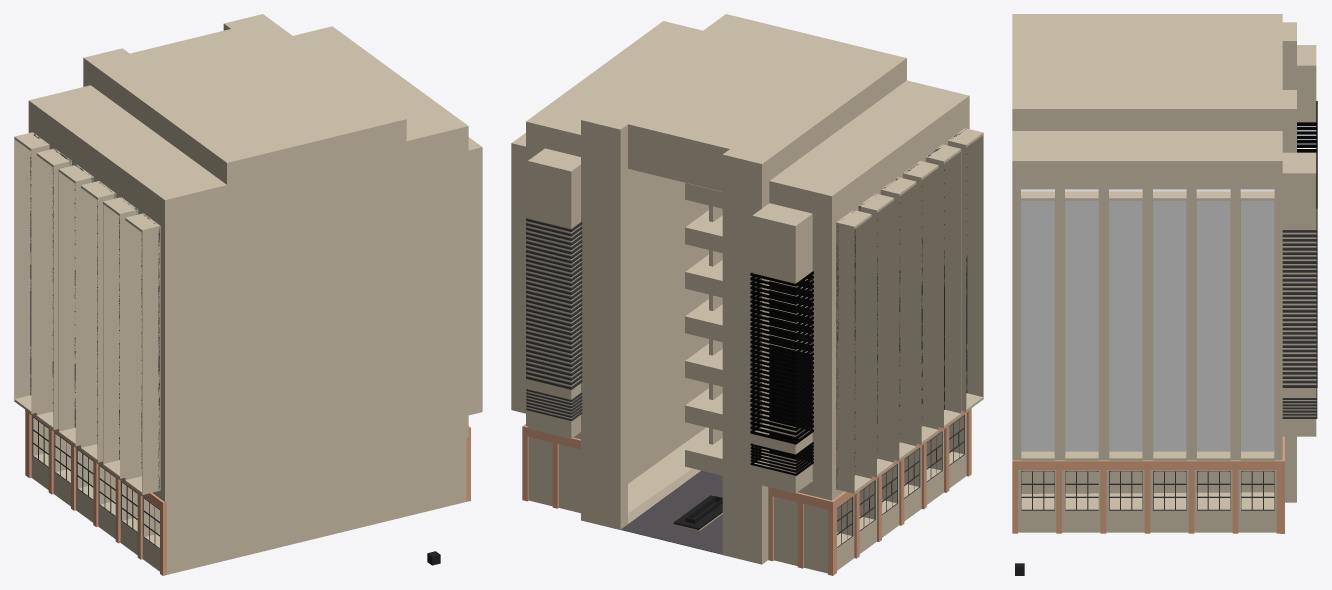
Rendered from CSB_Main.fbx.
3 renders of one model, left to right at view 1: azimuth 30°, elevation 25°; view 2: azimuth 150°, elevation 25°; view 3: azimuth 270°, elevation 25°, orthographic.
Parts seen in each view (by area): view 1: left.base, left.base.002, window.frames.001, middle.base, window.frames, Cube.006, window.grids.001, short.window.grid.001; view 2: left.base, left.base.002, window.frames.001, Plane.001, Cube.009, Cube.004, left.base.001, middle.base, window.frames, Cube.014, Cube.006, short.window.grid.001 (+5 smaller); view 3: left.base, window.base, left.base.002, window.frames, left.base.001, Cube.004, Plane.001, Cube.001, Cube, short.window.grid, Cube.009.
Boxes of the visible parts, x1,y1,x2,y2 form: left.base: (130,14,468,525); left.base.002: (28,48,266,574); window.frames.001: (14,132,160,494); middle.base: (266,173,367,550); window.frames: (468,137,482,415); Cube.006: (27,413,166,575); window.grids.001: (30,134,159,489); short.window.grid.001: (32,417,159,548); left.base: (526,14,866,529); left.base.002: (722,48,969,573); window.frames.001: (836,128,983,493); Plane.001: (628,169,708,483); Cube.009: (750,203,813,493); Cube.004: (526,148,582,420); left.base.001: (527,161,580,438); middle.base: (685,183,722,475); window.frames: (511,133,525,413); Cube.014: (621,470,722,554); Cube.006: (835,409,971,573); short.window.grid.001: (837,415,964,547); left.base: (1012,41,1296,532); window.base: (1021,189,1274,451); left.base.002: (1012,14,1296,89); window.frames: (1021,191,1274,460); left.base.001: (1282,173,1316,436); Cube.004: (1282,152,1317,418); Plane.001: (1021,471,1274,493); Cube.001: (1012,470,1280,533); Cube: (1012,460,1280,469); short.window.grid: (1021,471,1274,510); Cube.009: (1297,45,1317,208).
Size of the model in its own units: 8069 by 10283 by 6328.
